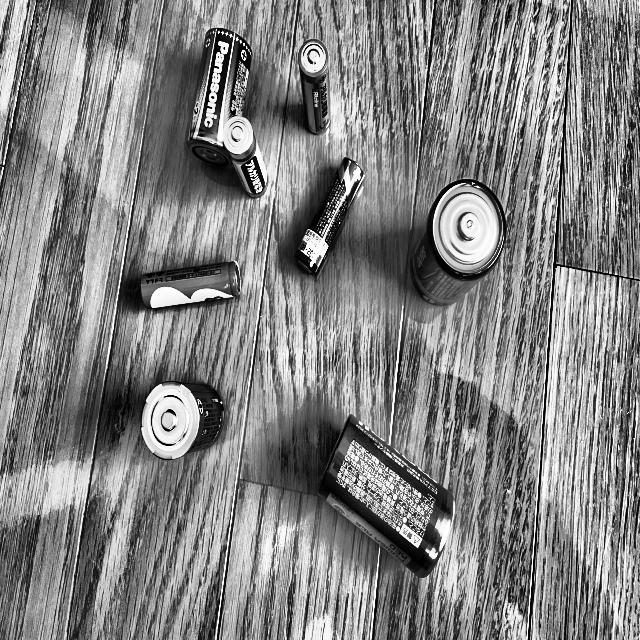drycell: (138, 374, 230, 466), (134, 247, 246, 314)
